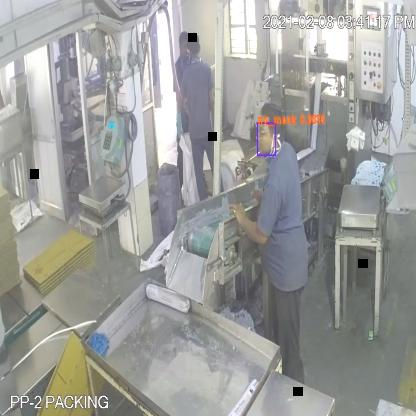no_glove: (226, 199, 268, 258)
